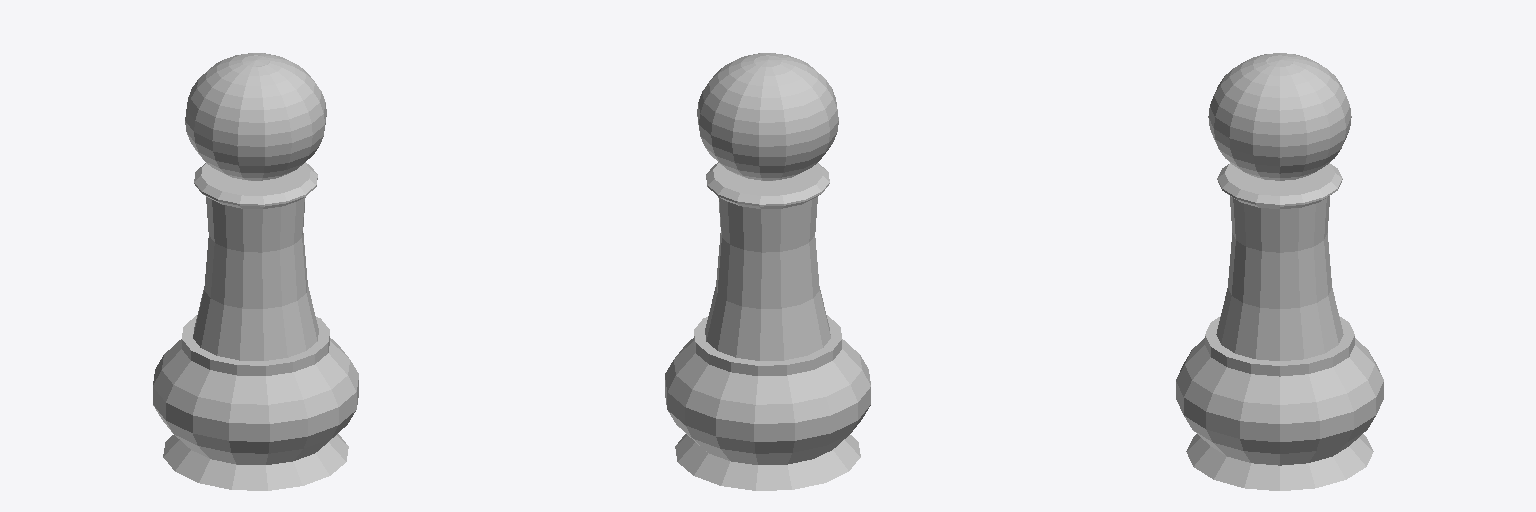
The model's file is pawn_black.obj.
The picture shows the model from 3 angles: view 1: azimuth 30°, elevation 25°; view 2: azimuth 150°, elevation 25°; view 3: azimuth 270°, elevation 25°; orthographic projection.
Visible parts, largest first — view 1: Pawn.001; view 2: Pawn.001; view 3: Pawn.001.
Boxes of the visible parts, x1=… form: Pawn.001: x1=153, y1=53, x2=358, y2=490; Pawn.001: x1=665, y1=53, x2=870, y2=490; Pawn.001: x1=1176, y1=53, x2=1383, y2=490.
Size of the model in its own units: 0.9985 by 2.07 by 0.9985.